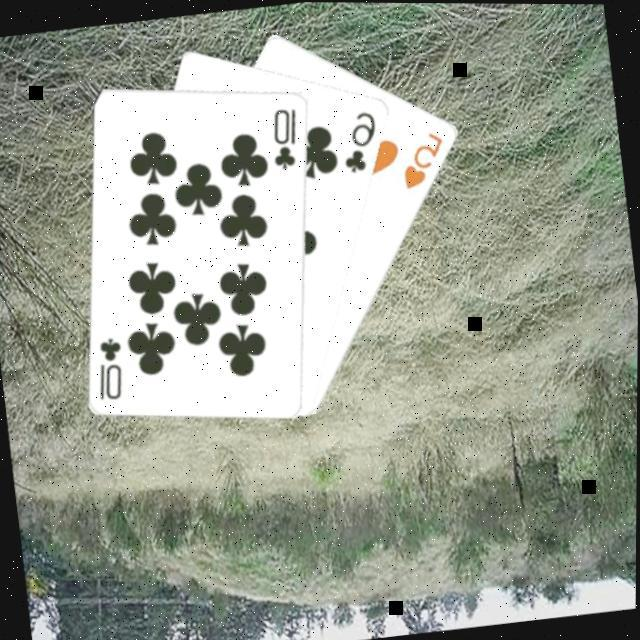10C: (264, 104, 306, 174), (90, 334, 130, 406)
5H: (394, 127, 451, 194)
6C: (334, 108, 384, 178)
